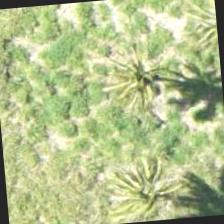Kelapa_Sawit: (92, 10, 190, 108), (108, 141, 205, 223)
